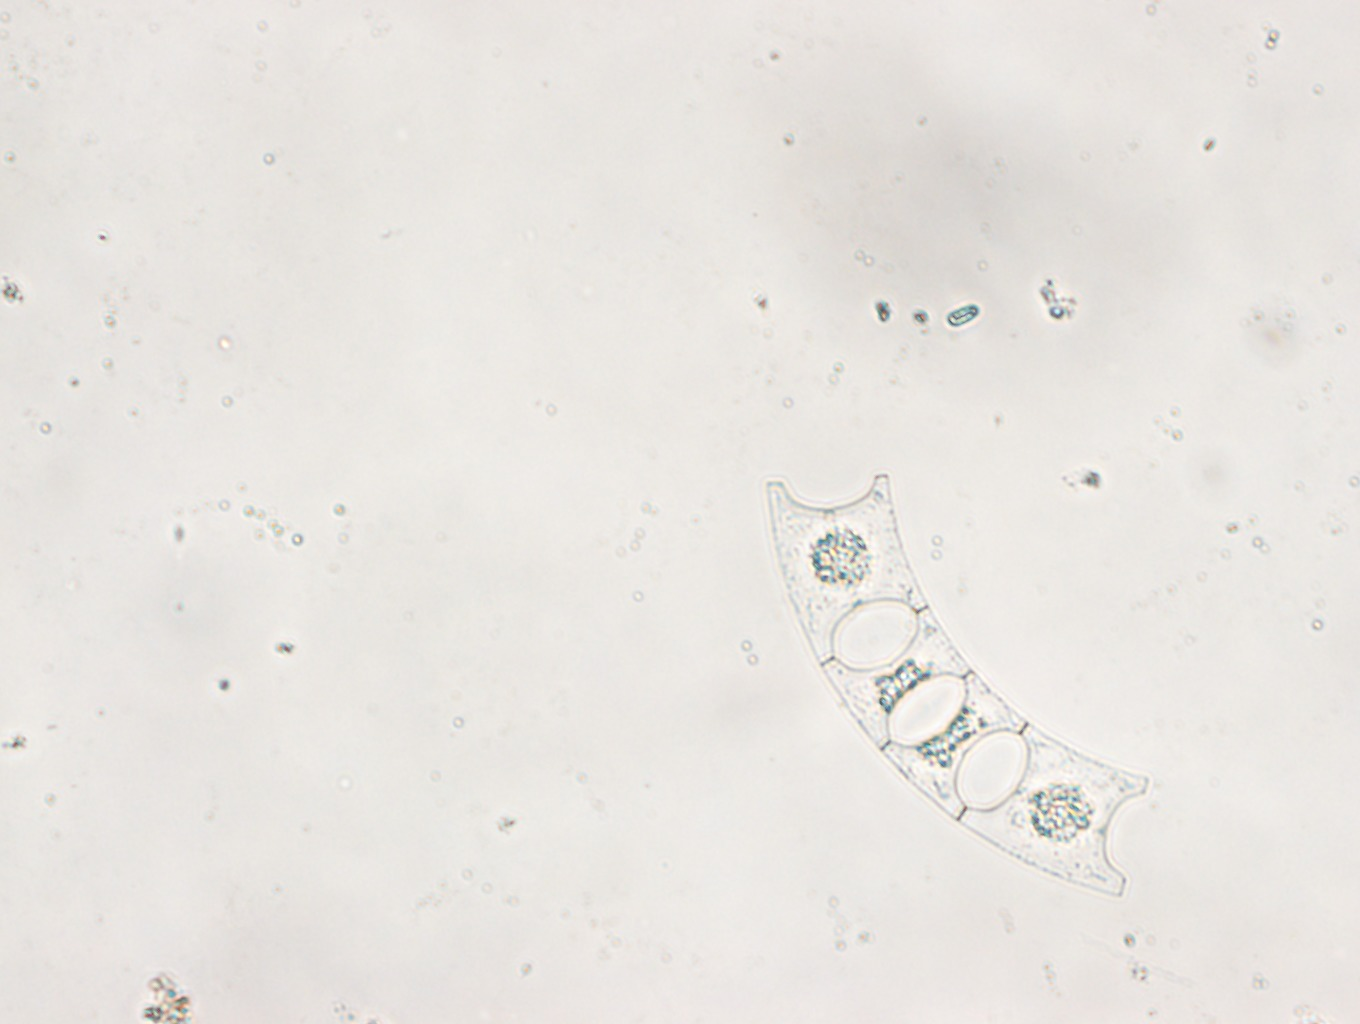eucampia: (764, 467, 1154, 904)
